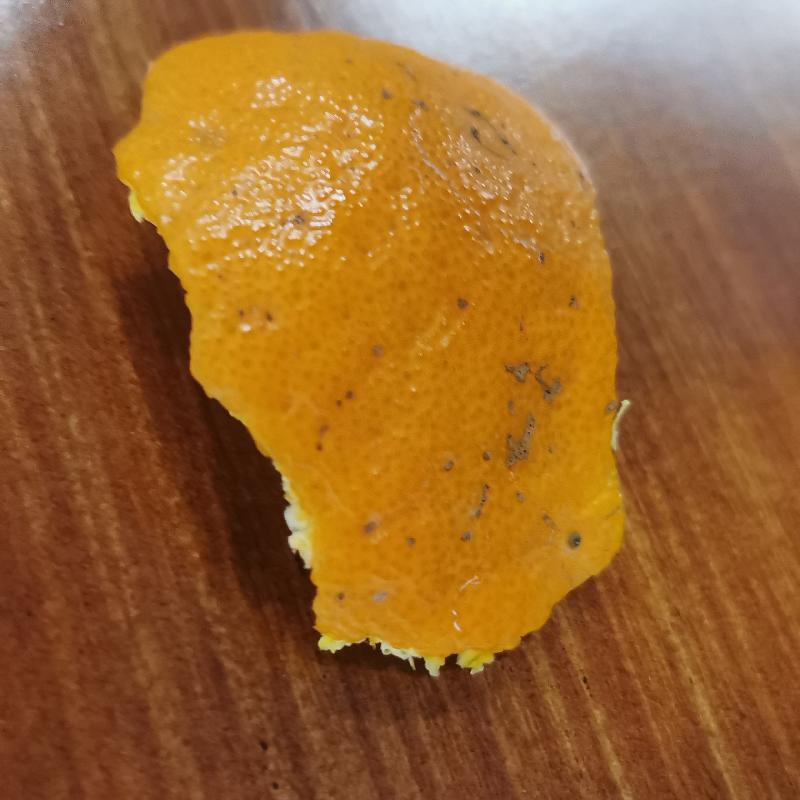orange: (113, 15, 626, 671)
